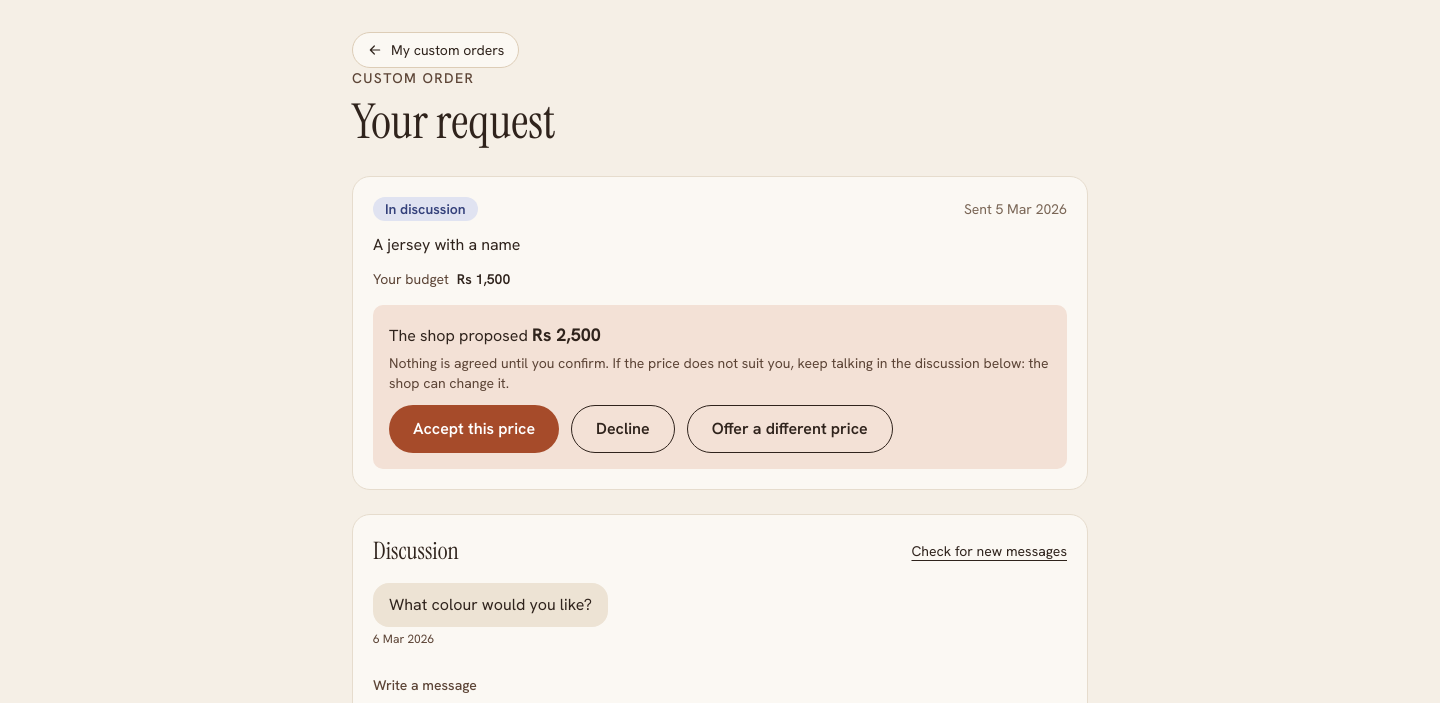
Test: warns when the shop changed the price while the pop-up was open
Click the button "Accept this price".
click(474, 429)  # box [389,405,559,453]
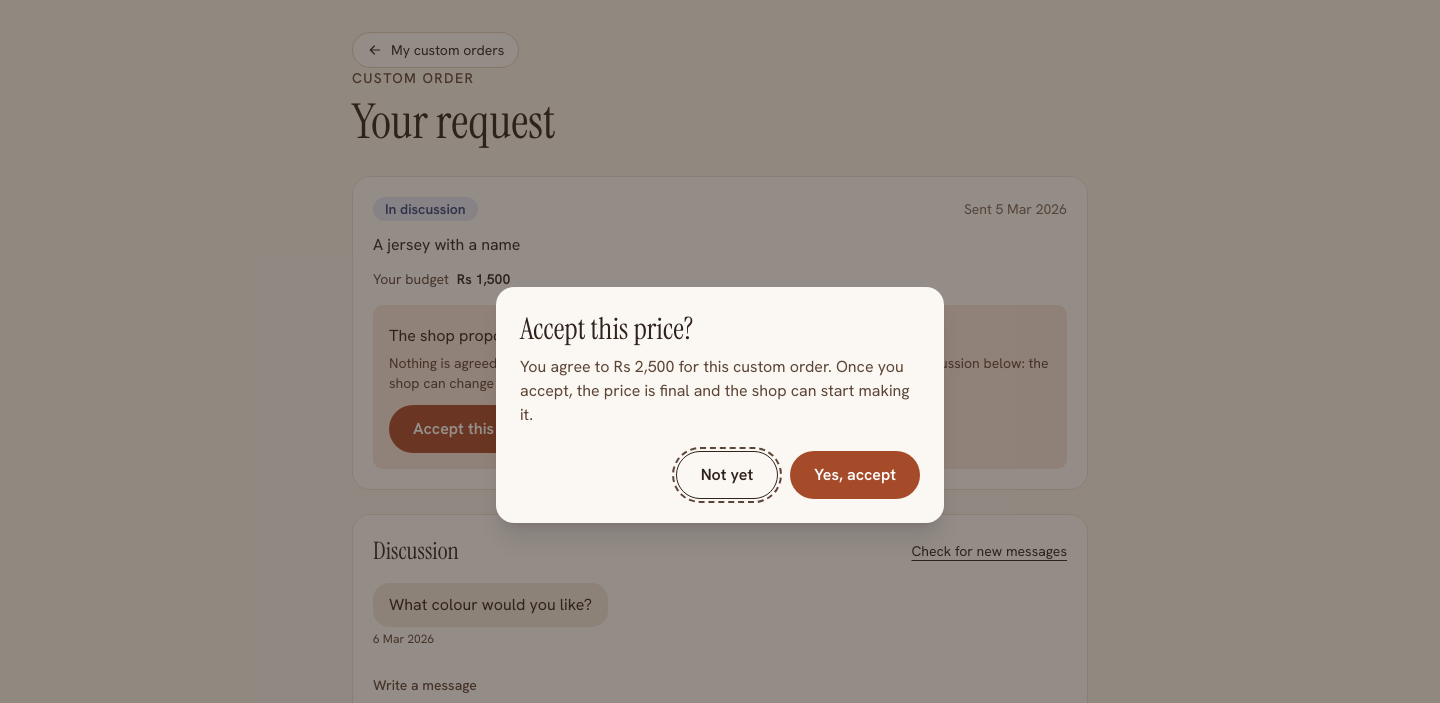
Click the button "Yes, accept".
click(855, 475)  # box [790,451,920,499]
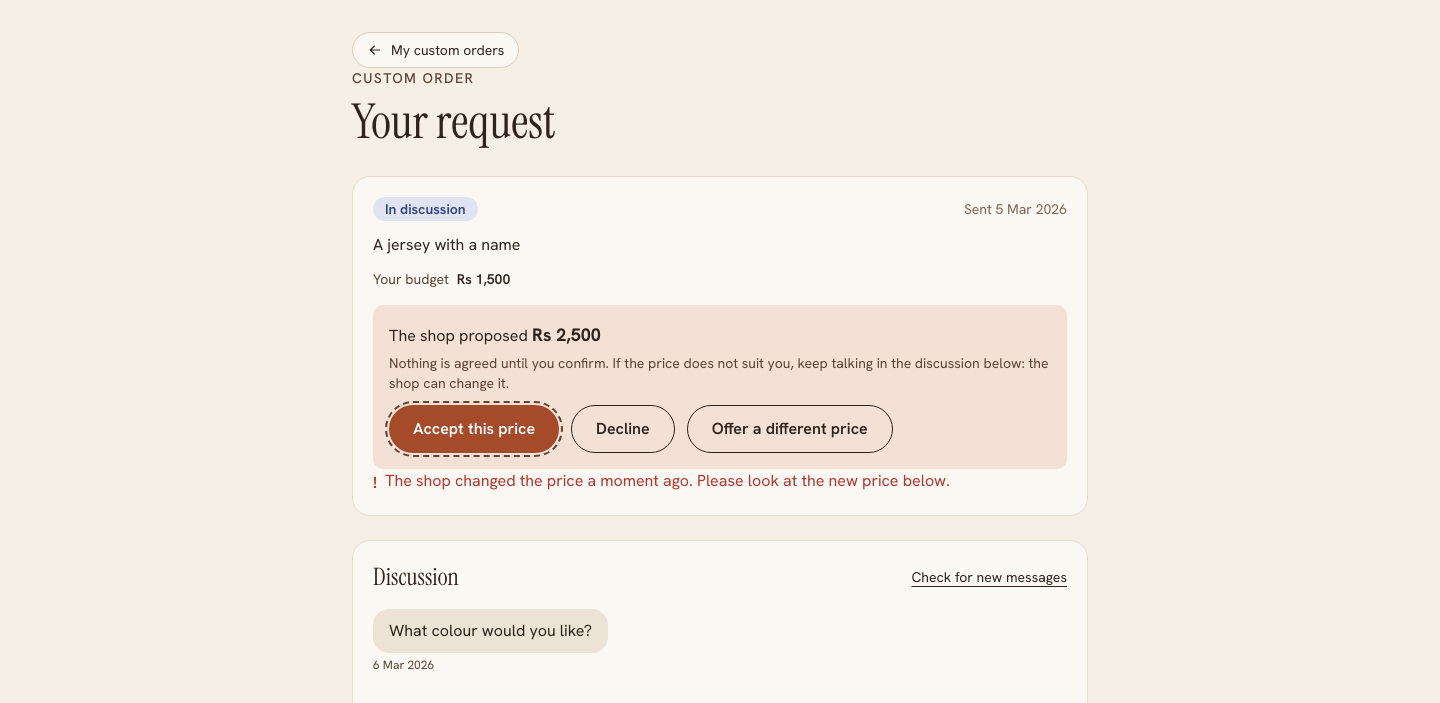
Now the message shows "changed the price", box [385,470,950,491]
